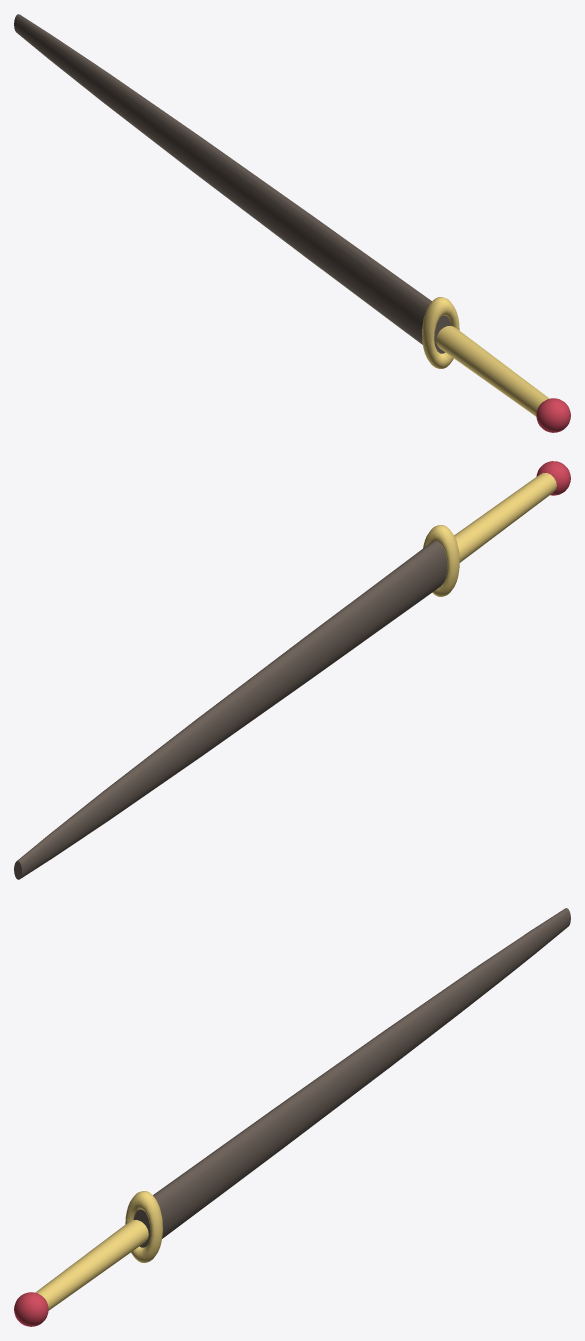
Rendered from ganondorf_sword_LOD2.dae.
3 renders of one model, top to bottom at view 1: azimuth 30°, elevation 25°; view 2: azimuth 150°, elevation 25°; view 3: azimuth 330°, elevation 25°, orthographic.
Parts seen in each view (by area): view 1: GanondorfSword_LOD2; view 2: GanondorfSword_LOD2; view 3: GanondorfSword_LOD2.
Part boxes in pixels (<box>): GanondorfSword_LOD2: <box>14,14,570,432</box>; GanondorfSword_LOD2: <box>14,461,570,879</box>; GanondorfSword_LOD2: <box>14,908,570,1326</box>.
Size of the model in its own units: 0.045 by 1.26 by 0.09.
